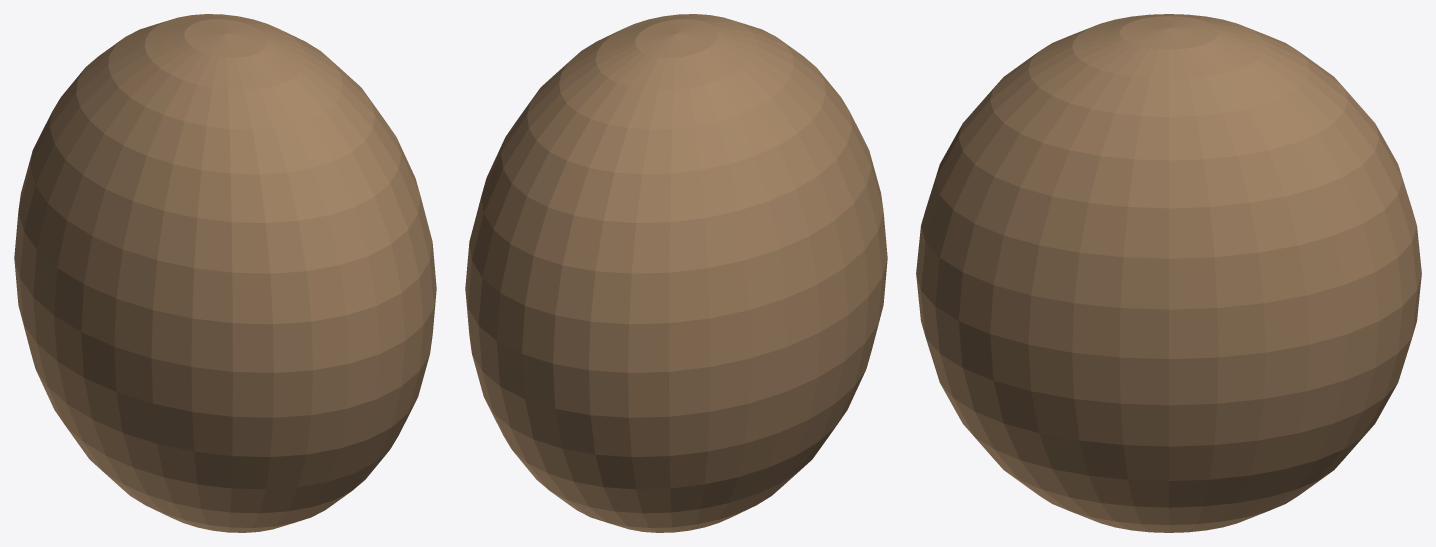
Rendered from ManoDer_Jugador.obj.
3 renders of one model, left to right at view 1: azimuth 30°, elevation 25°; view 2: azimuth 150°, elevation 25°; view 3: azimuth 270°, elevation 25°, orthographic. The views are drawn at different scales.
Parts seen in each view (by area): view 1: ManoDer_Jugador; view 2: ManoDer_Jugador; view 3: ManoDer_Jugador.
Part boxes in pixels (left/top/right/bottom): ManoDer_Jugador: left=14, top=14, right=436, bottom=532; ManoDer_Jugador: left=465, top=14, right=887, bottom=532; ManoDer_Jugador: left=916, top=14, right=1421, bottom=532.
Size of the model in its own units: 0.764 by 1.02 by 0.9529.
Materials: 1 (1 with a texture image).
